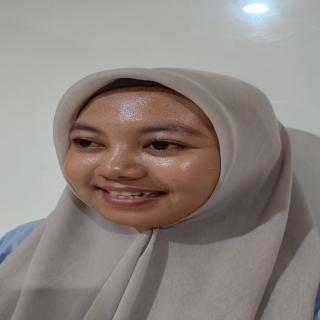Senang: (57, 85, 244, 230)
